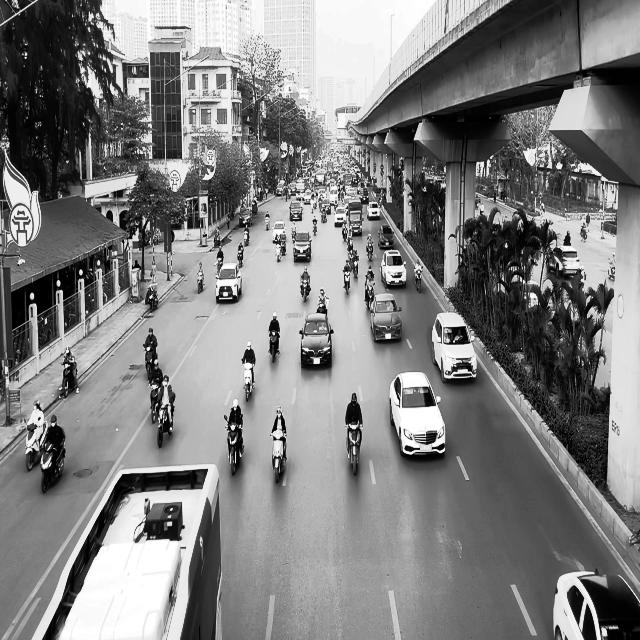bus: (32, 464, 224, 639)
car: (552, 568, 640, 639), (389, 370, 446, 457), (431, 311, 477, 383), (299, 312, 333, 368), (369, 292, 402, 343), (546, 244, 581, 280), (215, 262, 242, 302), (381, 250, 406, 288), (292, 230, 312, 262), (378, 224, 394, 248), (272, 220, 286, 242), (366, 201, 381, 220), (239, 207, 252, 226)
motorbike: (40, 430, 66, 493), (224, 414, 244, 475), (24, 418, 47, 471), (156, 393, 175, 448), (345, 423, 362, 475), (270, 431, 287, 483), (58, 361, 79, 399), (241, 359, 255, 402), (148, 381, 162, 423), (142, 343, 156, 381), (268, 330, 280, 362), (146, 283, 158, 311), (300, 274, 310, 302), (365, 282, 374, 311), (413, 266, 422, 292), (343, 266, 351, 295), (214, 256, 223, 278), (197, 270, 205, 294), (366, 241, 373, 260), (237, 249, 243, 268), (243, 230, 250, 246), (264, 214, 270, 230), (312, 218, 317, 235)
